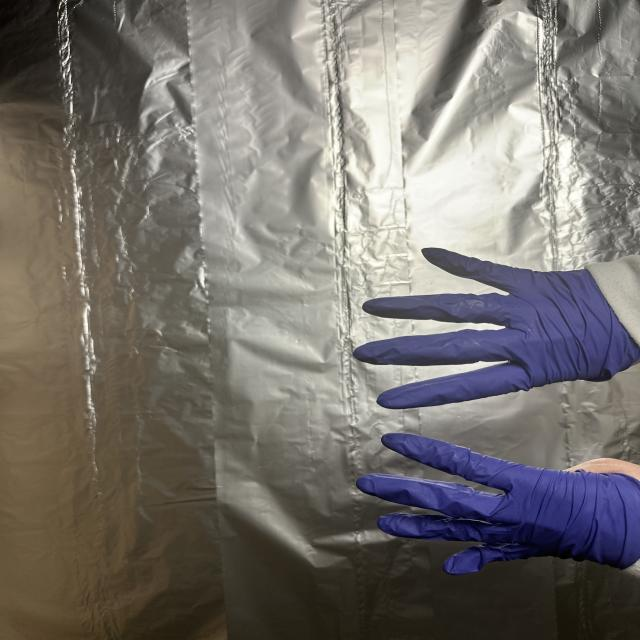glove_partial: (354, 243, 640, 410), (354, 428, 640, 572)
